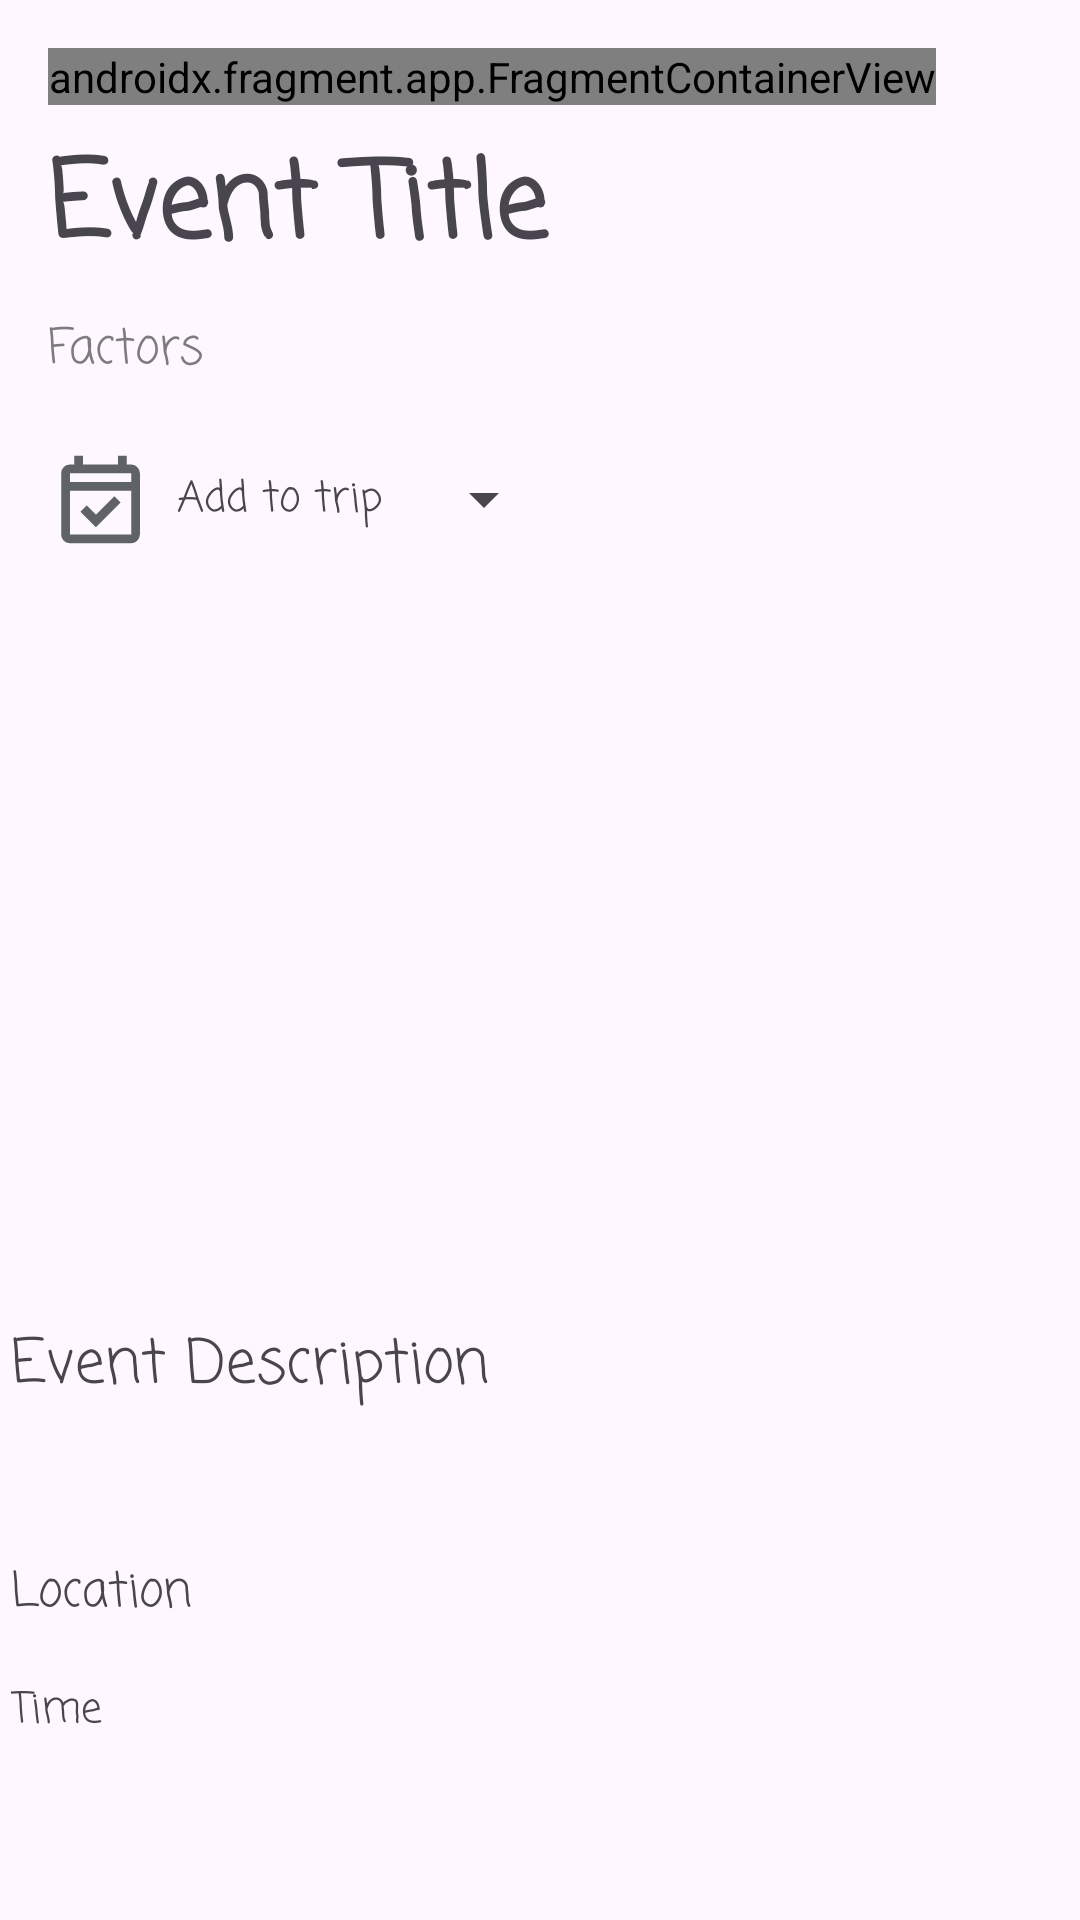

Where icons sit on this 1080w x 1920h app screen, as box(x1, y1, x2, y2):
calendar check: box(61, 455, 140, 544)
